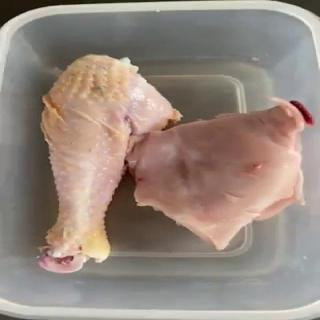Ayam: (36, 54, 184, 274), (124, 96, 314, 251)
